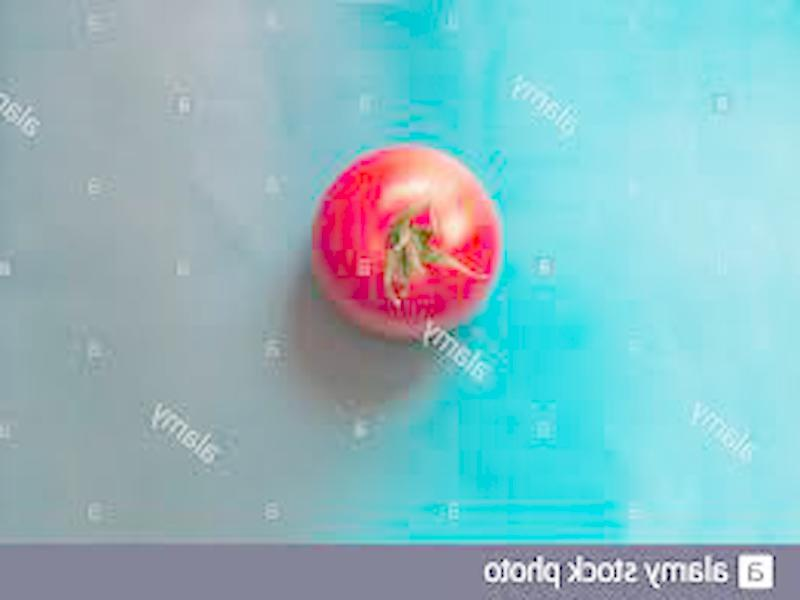Tomato: (314, 144, 500, 338)
